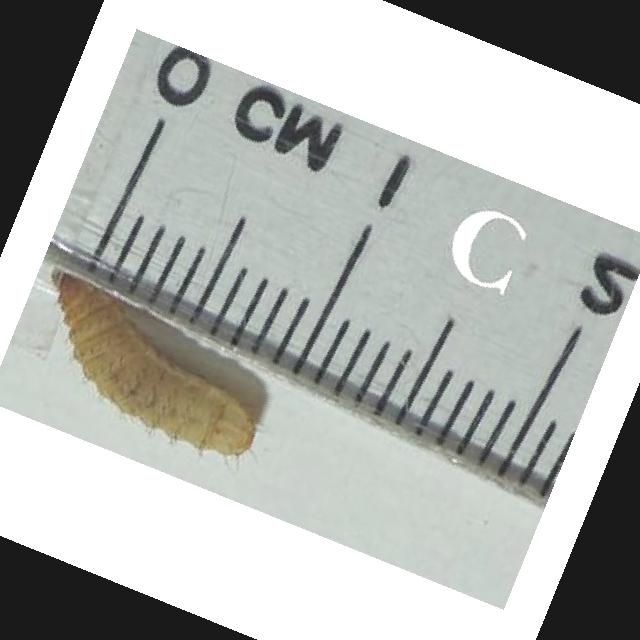Maggot: (50, 268, 252, 459)
